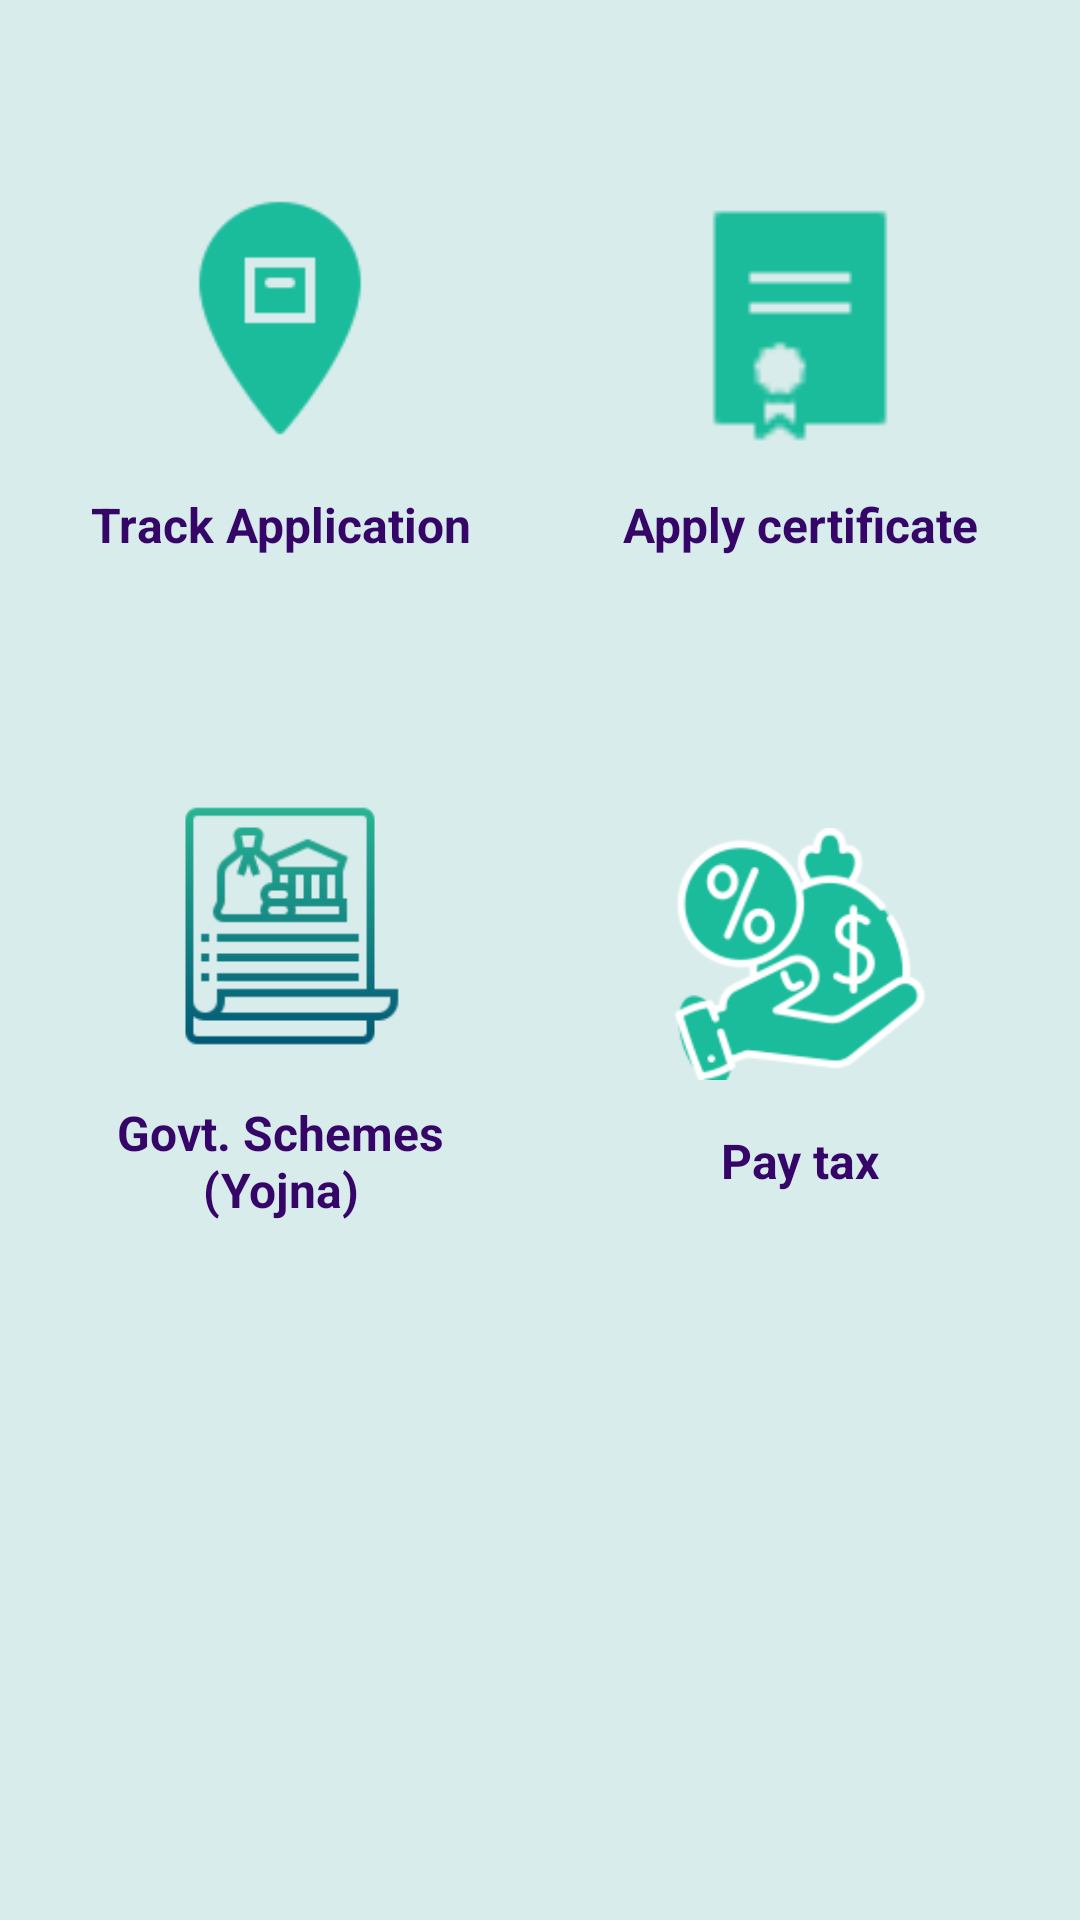

Named icons in this screenshot (1080 × 1920) and their centers, (x,y):
policy: (292,926)
